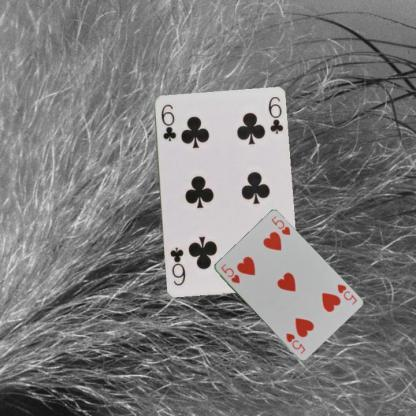5h: (335, 281, 358, 306), (218, 261, 241, 284)
6c: (158, 102, 178, 142)
